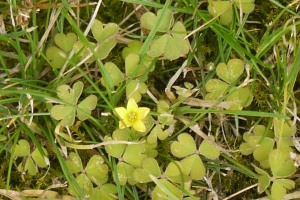oxalis: (40, 28, 282, 200)
